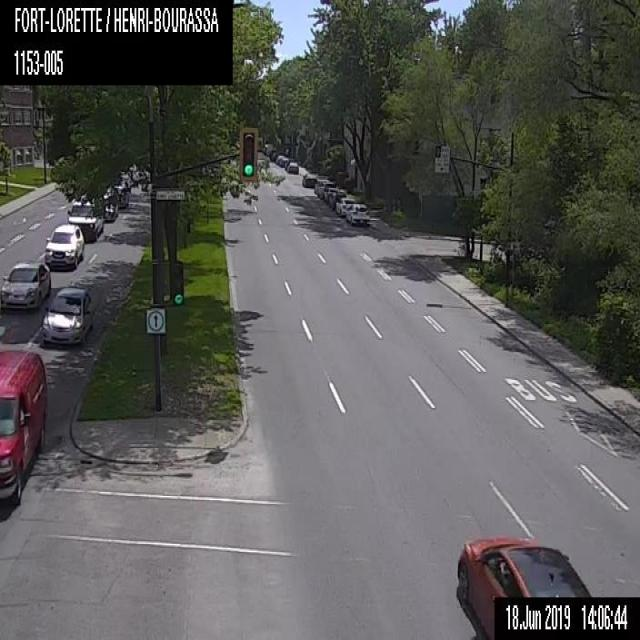vehicle: (452, 533, 592, 639), (0, 348, 45, 510), (42, 286, 94, 344), (0, 261, 49, 307), (68, 196, 106, 241), (46, 224, 85, 266), (87, 183, 117, 219), (346, 202, 372, 226), (115, 180, 130, 208), (334, 196, 355, 214), (302, 171, 318, 187), (314, 179, 330, 193), (286, 161, 298, 171), (276, 152, 284, 164), (279, 156, 289, 165), (270, 149, 278, 160)
